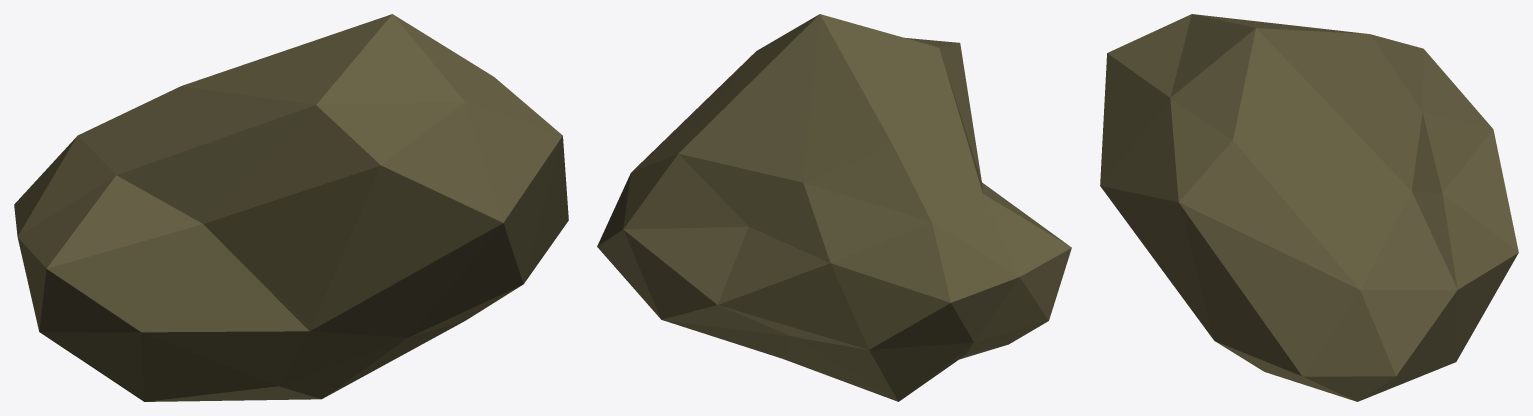
The model's file is IsometricTile_Between_Rock_2.fbx.
3 renders of one model, left to right at view 1: azimuth 30°, elevation 25°; view 2: azimuth 150°, elevation 25°; view 3: azimuth 270°, elevation 25°, orthographic. The views are drawn at different scales.
Parts seen in each view (by area): view 1: Icosphere.002; view 2: Icosphere.002; view 3: Icosphere.002.
Boxes of the visible parts, left/top/right/bottom form: Icosphere.002: left=14, top=14, right=568, bottom=401; Icosphere.002: left=597, top=14, right=1071, bottom=401; Icosphere.002: left=1100, top=14, right=1518, bottom=401.
Bounding box in the file's own units: 0.4772 × 0.6503 × 0.4423.
